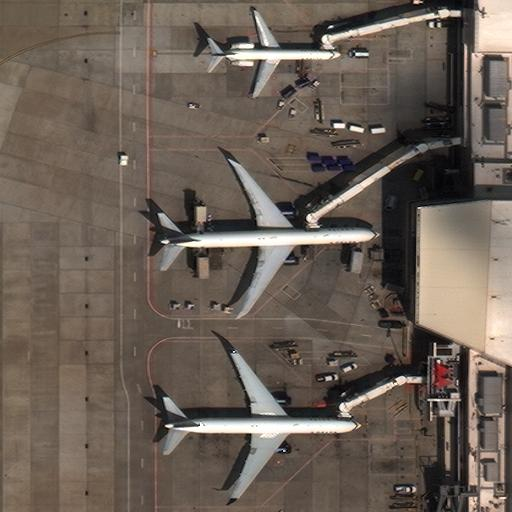Large Civil Transport: (156, 162, 385, 314), (160, 349, 364, 499)
Medium Civil Transport: (210, 10, 344, 97)
